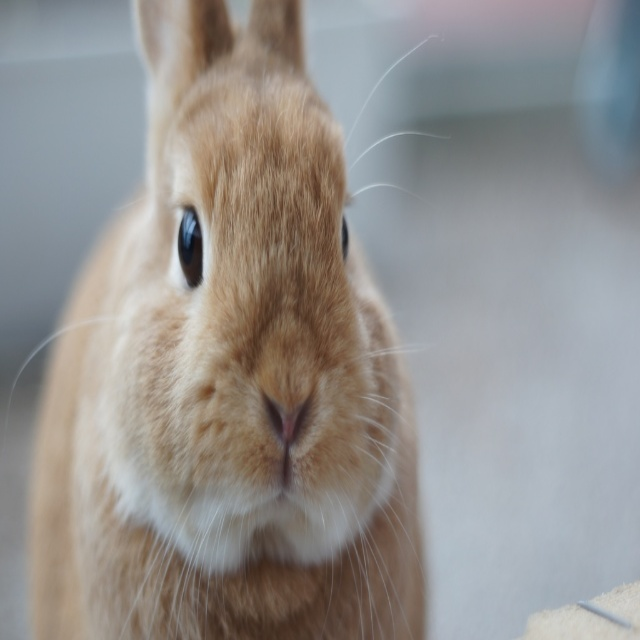Rabbit: (10, 0, 449, 639)
